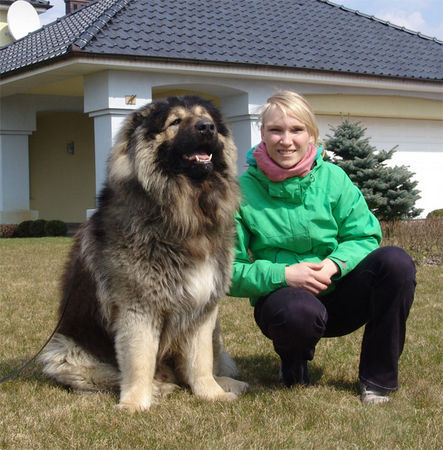cau_ovcharka: (38, 94, 251, 411)
human_face: (260, 118, 309, 168)
person: (226, 90, 416, 405)
